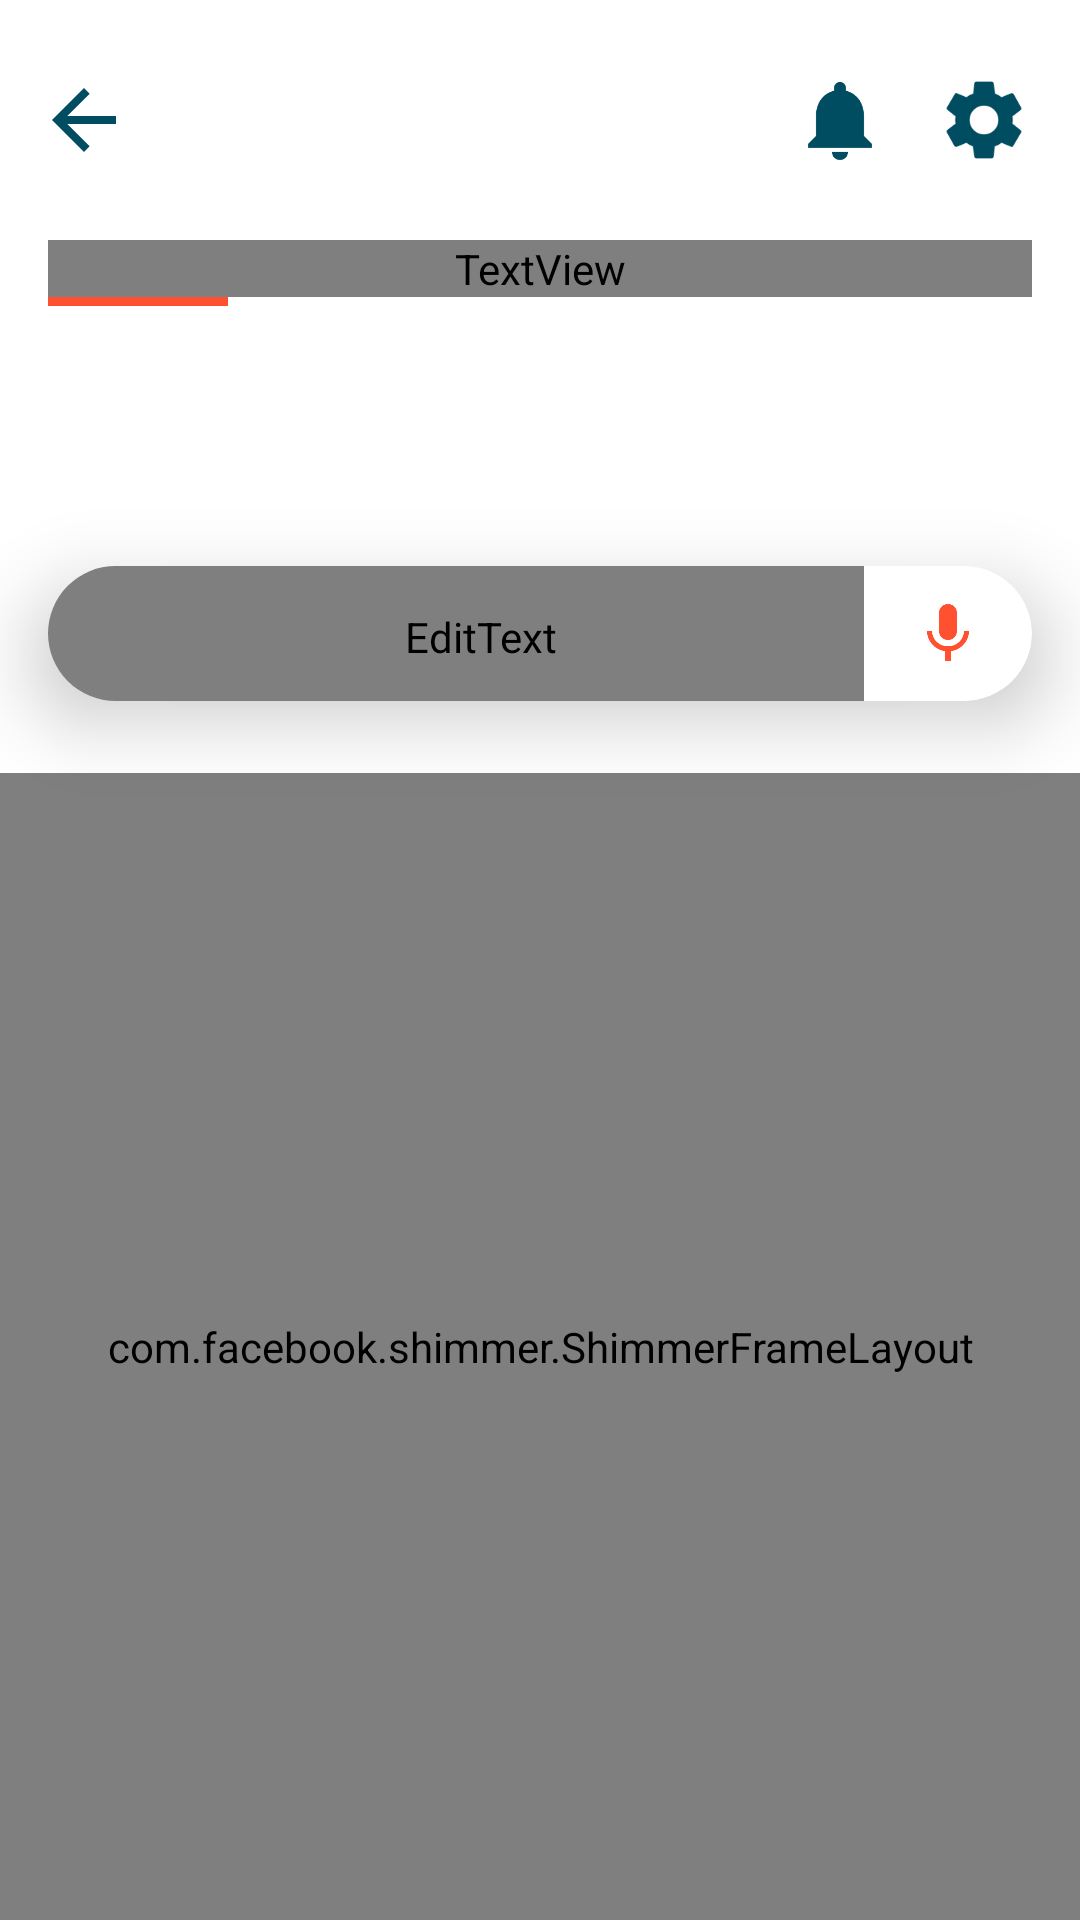

Point at icon controls on the screen. Image size 1080 x 1920, points as [x,y].
arrow back: [84,120]
notifications: [840,121]
settings: [984,120]
